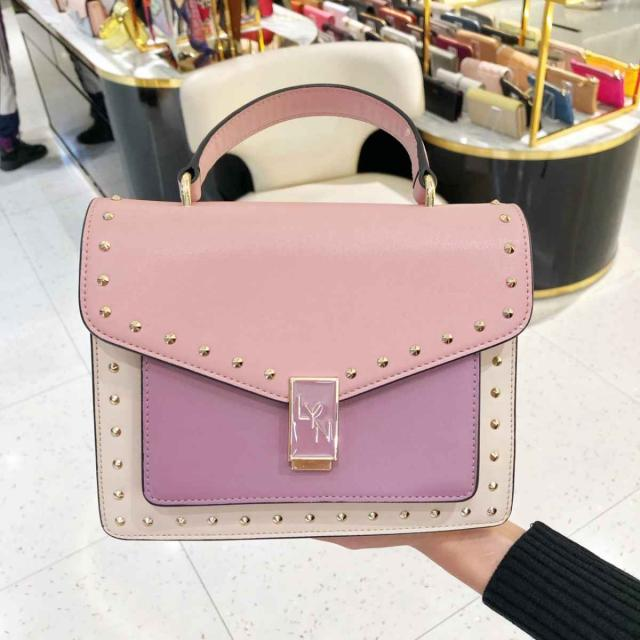Handbag: (56, 189, 546, 582)
